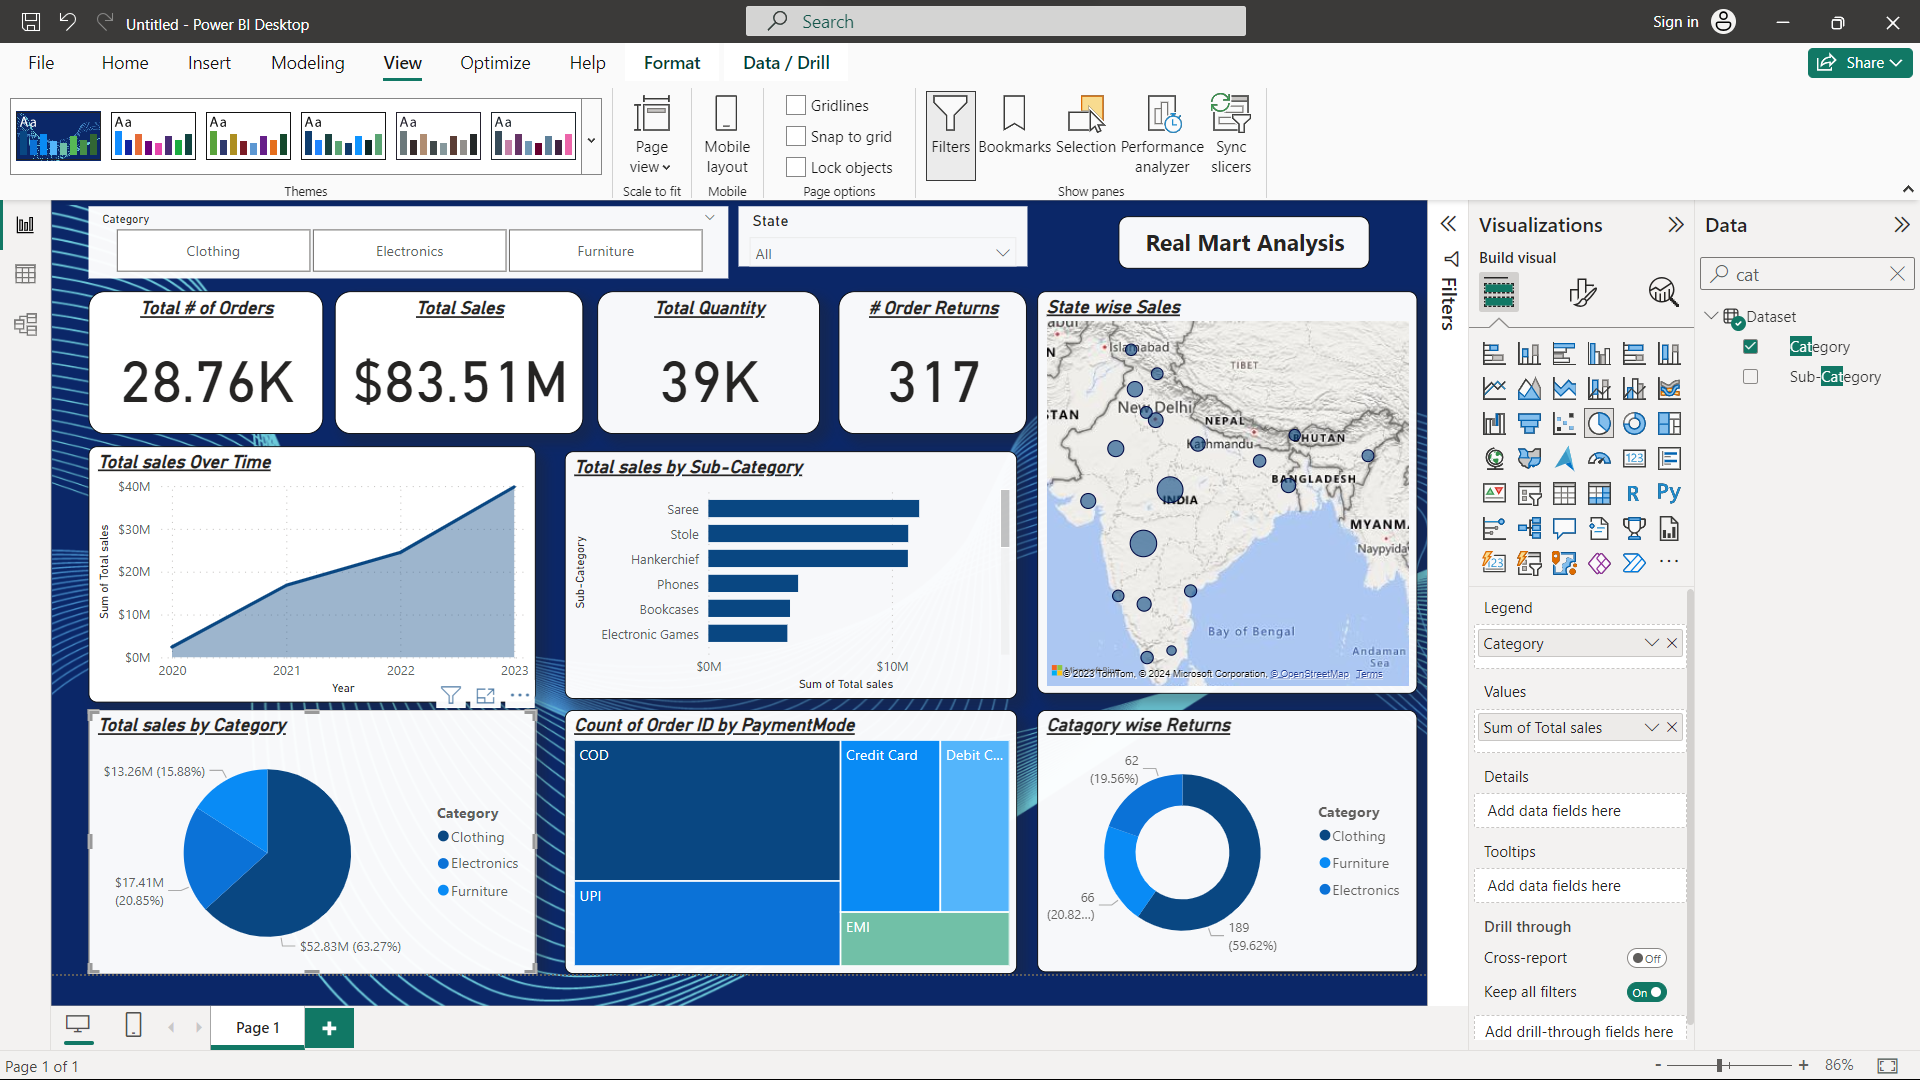

The dashboard page shown, as its layout file describes it:
{"tool":"powerbi","page":{"name":"Page 1","canvas":[1280,720],"ordinal":0},"visuals":[{"type":"card","title":"Total # of Orders","fields":{"Values":["CountNonNull(Dataset.Order ID)"]},"box":[34.9,84.9,218.6,132.6],"z":0},{"type":"card","fields":{"Values":["Sum(Dataset.Total sales)"]},"box":[262.8,84.9,215.1,132.6],"z":1000},{"type":"card","title":"Total Quantity","fields":{"Values":["Sum(Dataset.Net quantity)"]},"box":[508.1,84.9,207,132.6],"z":2000},{"type":"card","title":"# Order Returns","fields":{"Values":["Sum(Dataset.Returns)"]},"box":[732.6,84.9,175.6,132.6],"z":3000},{"type":"areaChart","title":" Total sales Over Time","fields":{"Category":["Dataset.Date.Variation.Date Hierarchy.Year","Dataset.Date.Variation.Date Hierarchy.Month"],"Y":["Sum(Dataset.Total sales)"]},"box":[34.9,229.1,416.3,238.4],"z":4000},{"type":"pieChart","title":"Total sales by Category","fields":{"Category":["Dataset.Category"],"Y":["Sum(Dataset.Total sales)"]},"box":[34.9,474.4,416.3,245.3],"z":5000},{"type":"barChart","title":"Total sales by Sub-Category","fields":{"Category":["Dataset.Sub-Category"],"Y":["Sum(Dataset.Total sales)"]},"box":[477.9,233.7,420.9,230.2],"z":6000},{"type":"treemap","fields":{"Group":["Dataset.PaymentMode"],"Values":["CountNonNull(Dataset.Order ID)"]},"box":[477.9,474.4,420.9,245.3],"z":7000},{"type":"map","title":"State wise Sales","fields":{"Category":["Dataset.State"],"Size":["Sum(Dataset.Total sales)"]},"box":[917.4,84.9,353.5,374.4],"z":8000},{"type":"textbox","box":[993,15.1,233.7,48.8],"z":9000},{"type":"slicer","fields":{"Values":["Dataset.Category"]},"box":[34.9,5.8,595.4,67.4],"z":10000},{"type":"slicer","fields":{"Values":["Dataset.State"]},"box":[639.5,5.8,268.6,55.8],"z":11000},{"type":"donutChart","title":"Catagory wise Returns","fields":{"Y":["Sum(Dataset.Returns)"],"Category":["Dataset.Category"]},"box":[917.4,474.4,353.5,244.2],"z":12000}]}

Visuals, with their boxes on the page's 1280x720 design canvas (x1, y1, x2, y2). These are canvas units, not pixel positions in the 1920x1080 screenshot, which may show the page scaled, cropped or inside an application window:
"Total # of Orders" card: (35, 85, 254, 218)
card - Sum(Dataset.Total sales): (263, 85, 478, 218)
"Total Quantity" card: (508, 85, 715, 218)
"# Order Returns" card: (733, 85, 908, 218)
" Total sales Over Time" areaChart: (35, 229, 451, 468)
"Total sales by Category" pieChart: (35, 474, 451, 720)
"Total sales by Sub-Category" barChart: (478, 234, 899, 464)
treemap - Dataset.PaymentMode x CountNonNull(Dataset.Order ID): (478, 474, 899, 720)
"State wise Sales" map: (917, 85, 1271, 459)
textbox: (993, 15, 1227, 64)
slicer - Dataset.Category: (35, 6, 630, 73)
slicer - Dataset.State: (640, 6, 908, 62)
"Catagory wise Returns" donutChart: (917, 474, 1271, 719)
